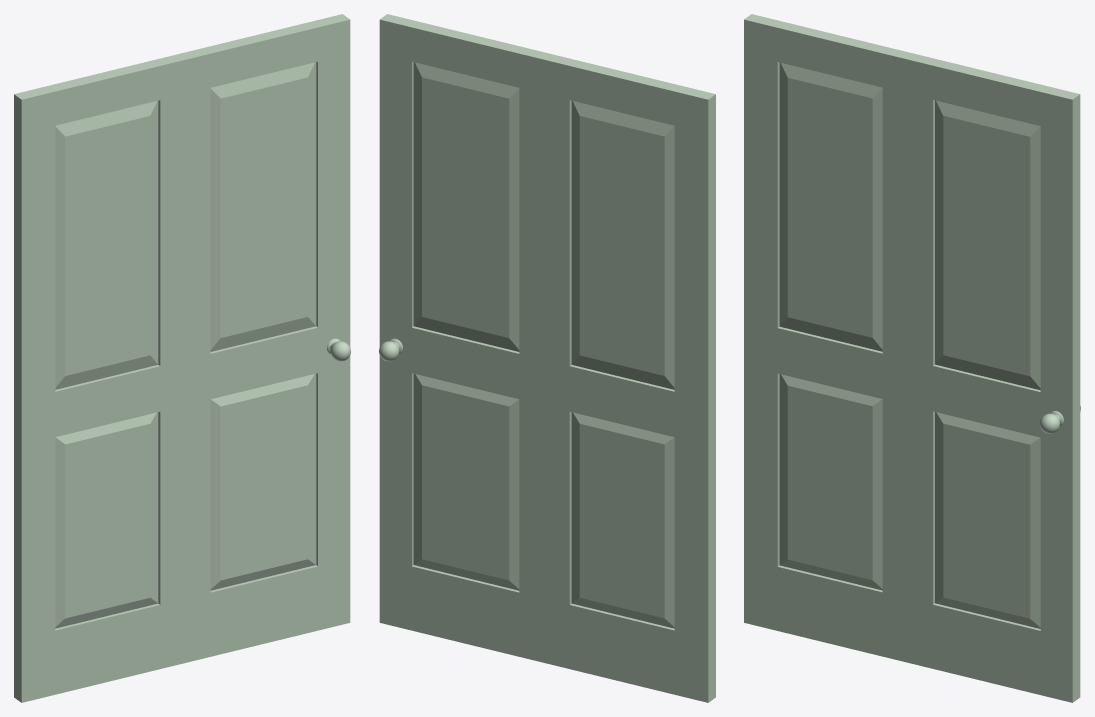
File: DoorHouse.fbx
3 renders of one model, left to right at view 1: azimuth 30°, elevation 25°; view 2: azimuth 150°, elevation 25°; view 3: azimuth 330°, elevation 25°, orthographic.
Parts seen in each view (by area): view 1: Door; view 2: Door; view 3: Door.
Boxes of the visible parts, x1,y1,x2,y2 form: Door: (14, 14, 350, 702); Door: (379, 14, 715, 702); Door: (744, 14, 1080, 702).
Bounding box in the file's own units: 74.6 × 131 × 12.17.
